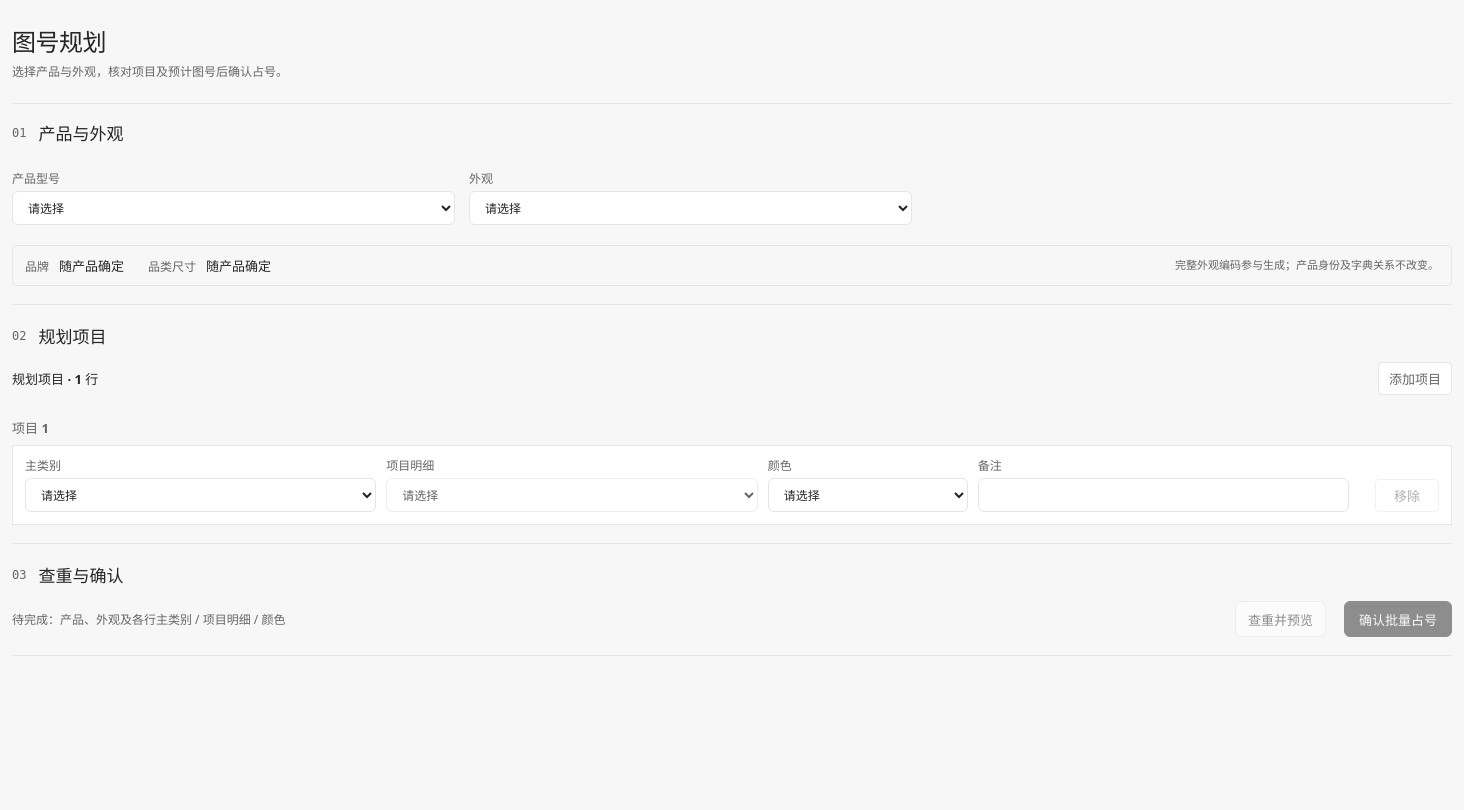
Test: PlanningPage › adds and removes batch rows without allowing an incomplete preview
Check: the text "项目 1" is shown once, box [12,419,49,437]
Check: the button "查重并预览" is disabled, box [1235,601,1326,637]
Click the button "添加项目". click: (1415, 378)
box: [1378,362,1452,395]
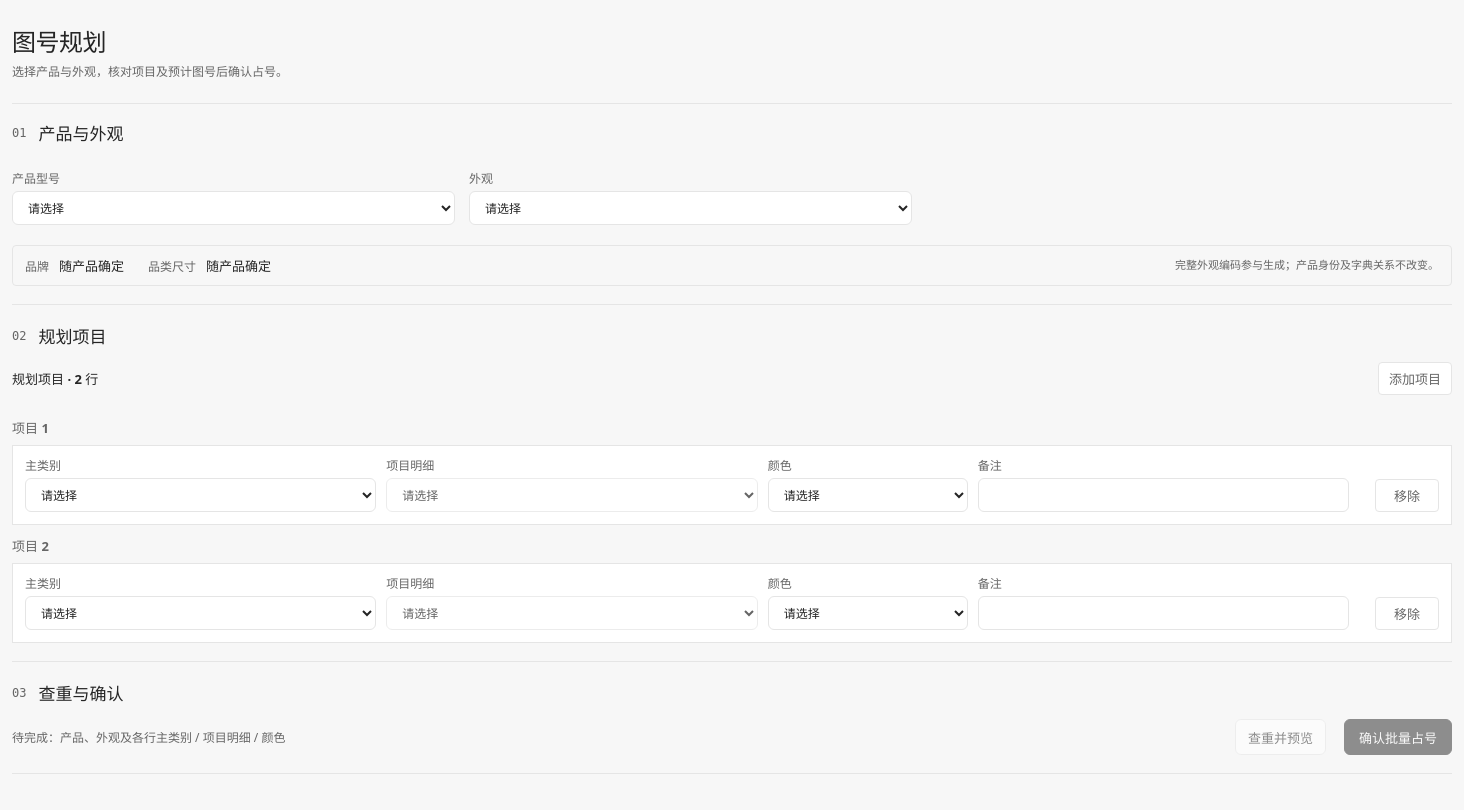
Check: the text "项目 2" is shown, box [12,537,49,555]
Click the button with aria-label "删除项目 2". click: (1407, 614)
box: [1375,597,1439,630]
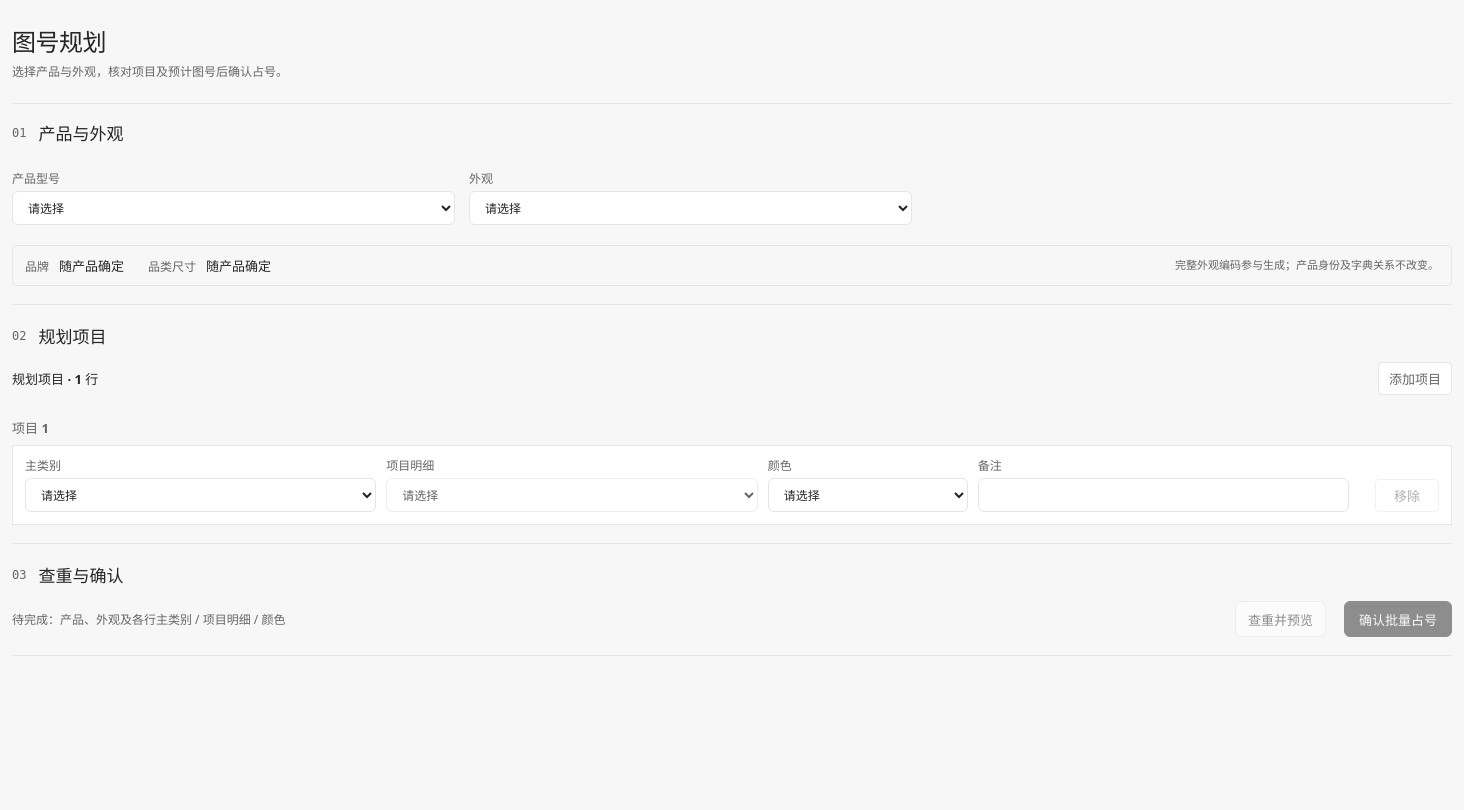
Check: the text "项目 2" is gone
